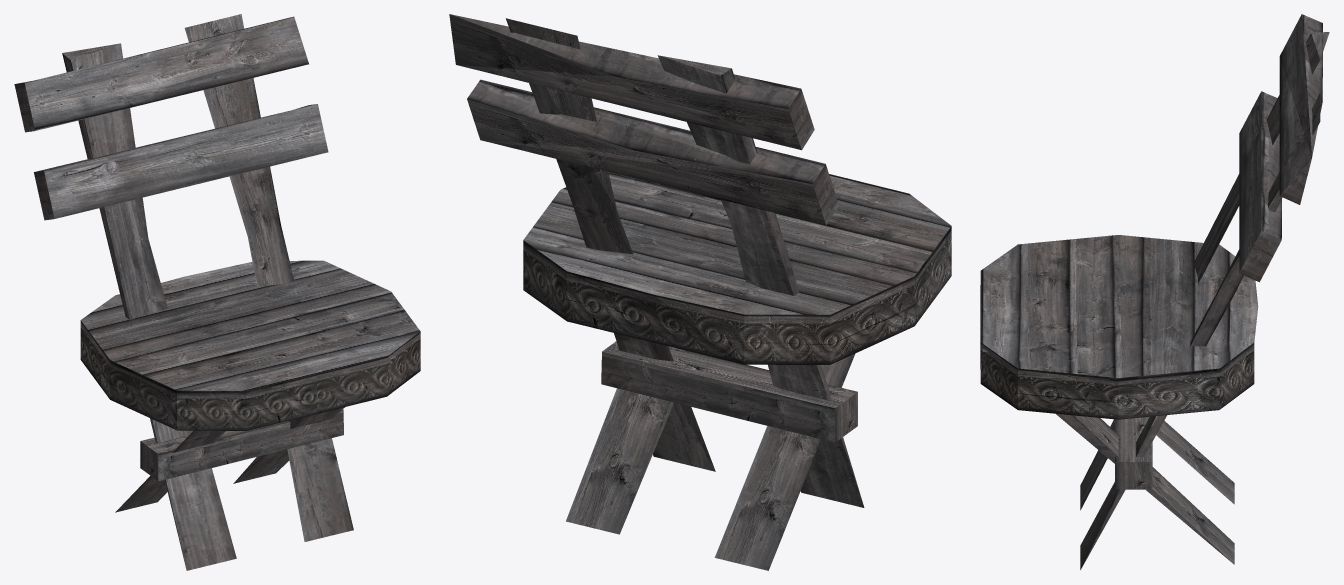
The model's file is tavern_chair_LOD.dae.
The picture shows the model from 3 angles, left to right: view 1: azimuth 30°, elevation 25°; view 2: azimuth 150°, elevation 25°; view 3: azimuth 270°, elevation 25°; orthographic projection. The views are drawn at different scales.
Visible parts, largest first — view 1: Default_Layer; view 2: Default_Layer; view 3: Default_Layer.
Boxes of the visible parts, x1=… form: Default_Layer: x1=14, y1=14, x2=420, y2=570; Default_Layer: x1=449, y1=14, x2=951, y2=570; Default_Layer: x1=980, y1=14, x2=1329, y2=569.
Size of the model in its own units: 1.12 by 1.65 by 1.16.
